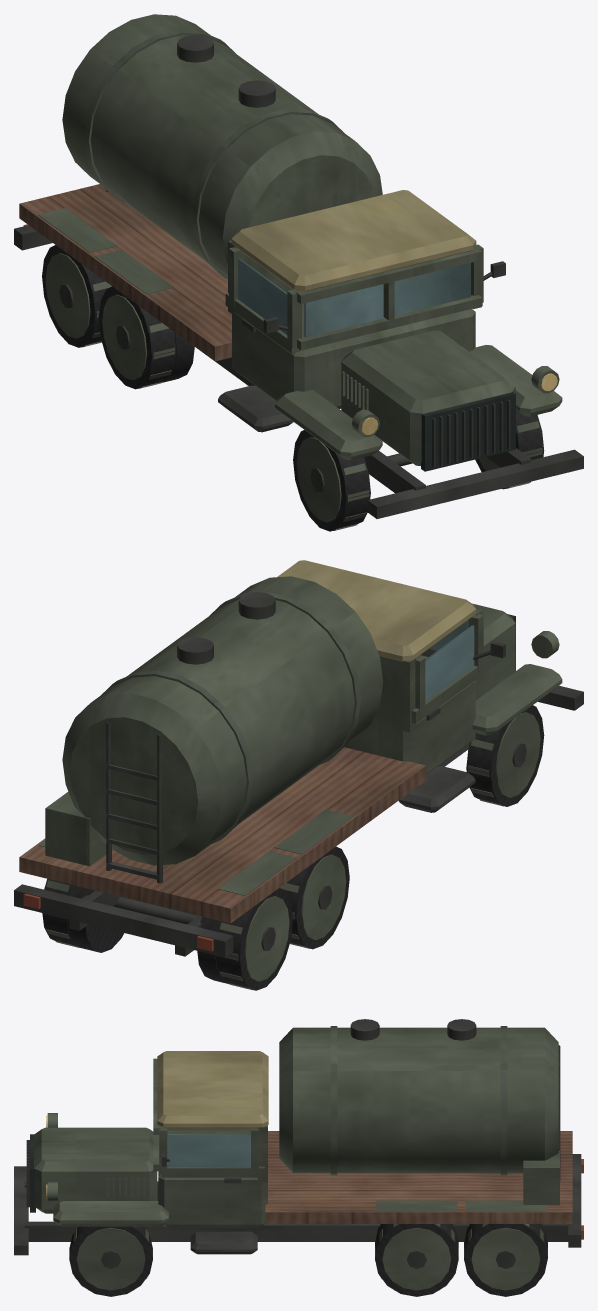
The model's file is gmc-cckw-tanker.glb.
3 renders of one model, top to bottom at view 1: azimuth 30°, elevation 25°; view 2: azimuth 150°, elevation 25°; view 3: azimuth 270°, elevation 25°, orthographic. The views are drawn at different scales.
Visible parts, largest first — view 1: GMC CCKW | Tankwagen; view 2: GMC CCKW | Tankwagen; view 3: GMC CCKW | Tankwagen.
Boxes of the visible parts, <box> form: GMC CCKW | Tankwagen: <box>14,14,583,531</box>; GMC CCKW | Tankwagen: <box>14,560,583,990</box>; GMC CCKW | Tankwagen: <box>14,1019,583,1296</box>.
Bounding box in the file's own units: 2.54 × 3.01 × 6.66.
Materials: 1 (1 with a texture image).
